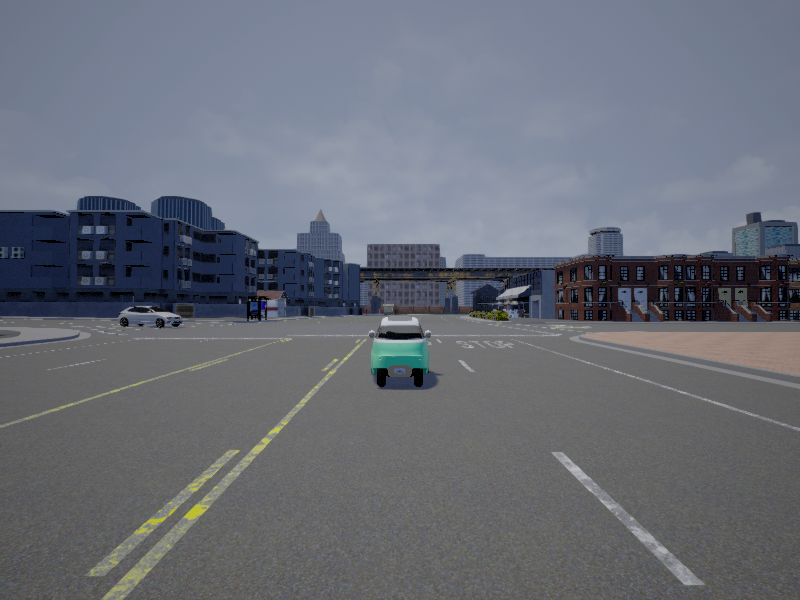Benign: (367, 316, 431, 389), (119, 304, 183, 328)
